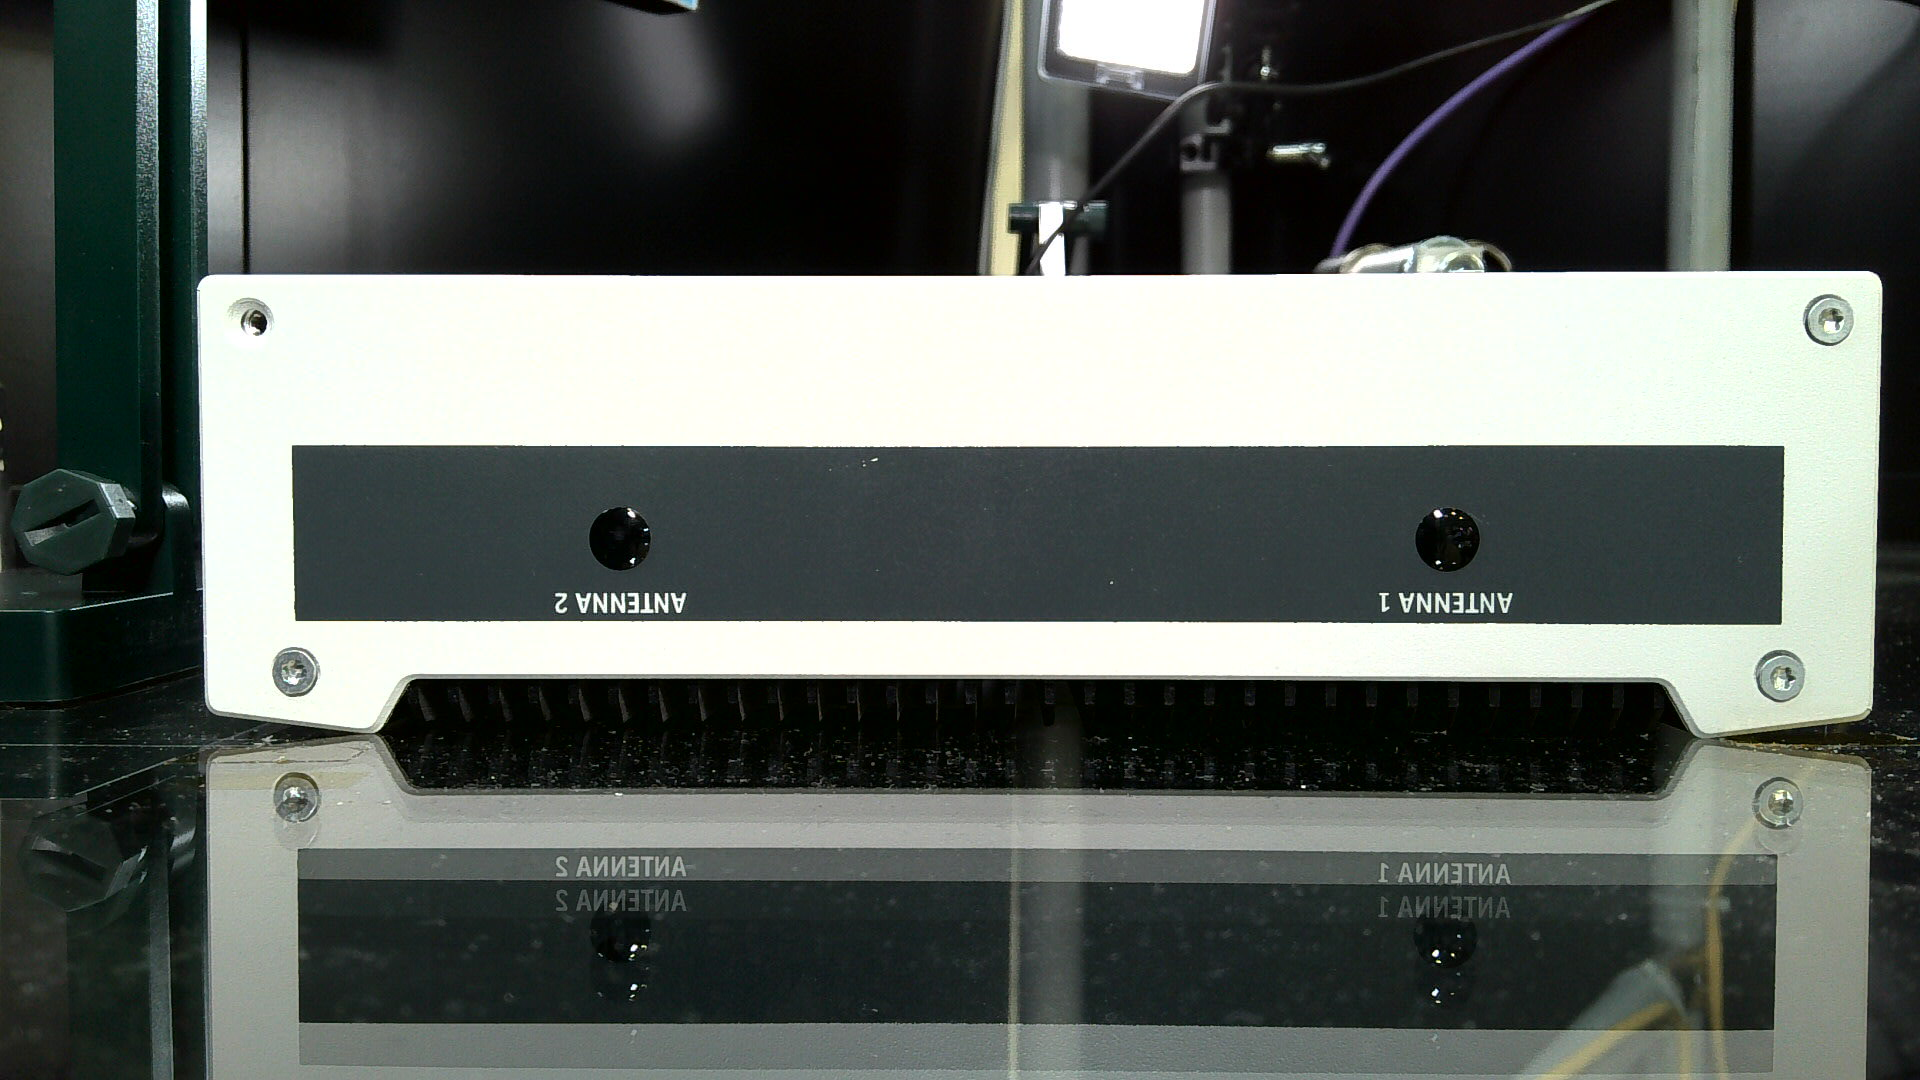CamBack: (167, 240, 1908, 740)
Loch: (214, 291, 284, 357)
Schraube_gespiegelt: (265, 770, 328, 858), (1747, 771, 1811, 858)
Schraube_halb: (1746, 640, 1815, 709), (1793, 285, 1859, 352), (260, 642, 326, 704)
